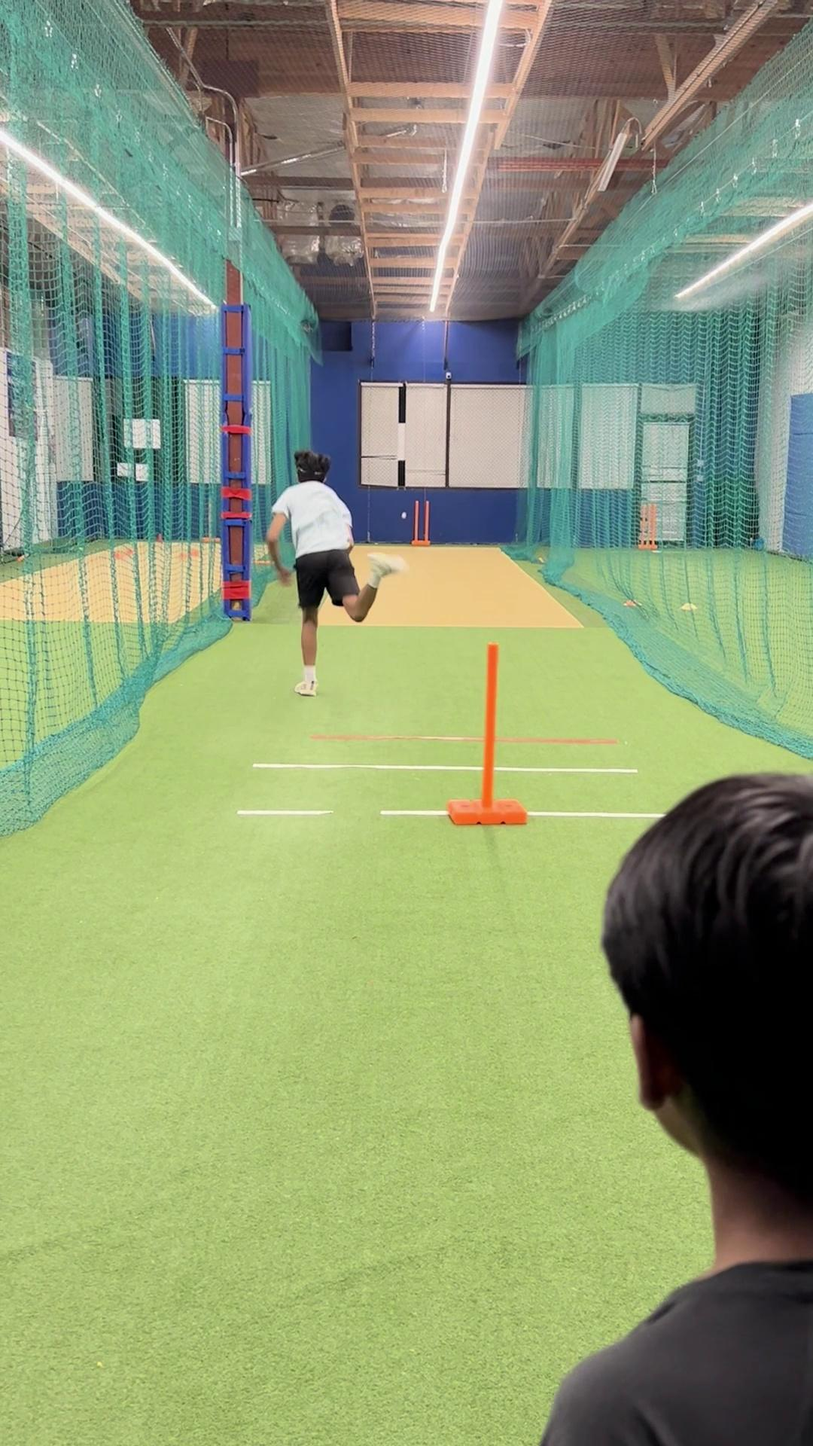ball: (396, 508, 410, 523)
